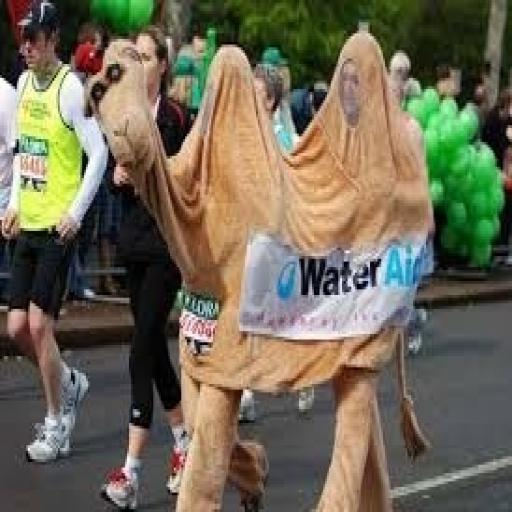running: (84, 31, 437, 509), (1, 0, 110, 467)
